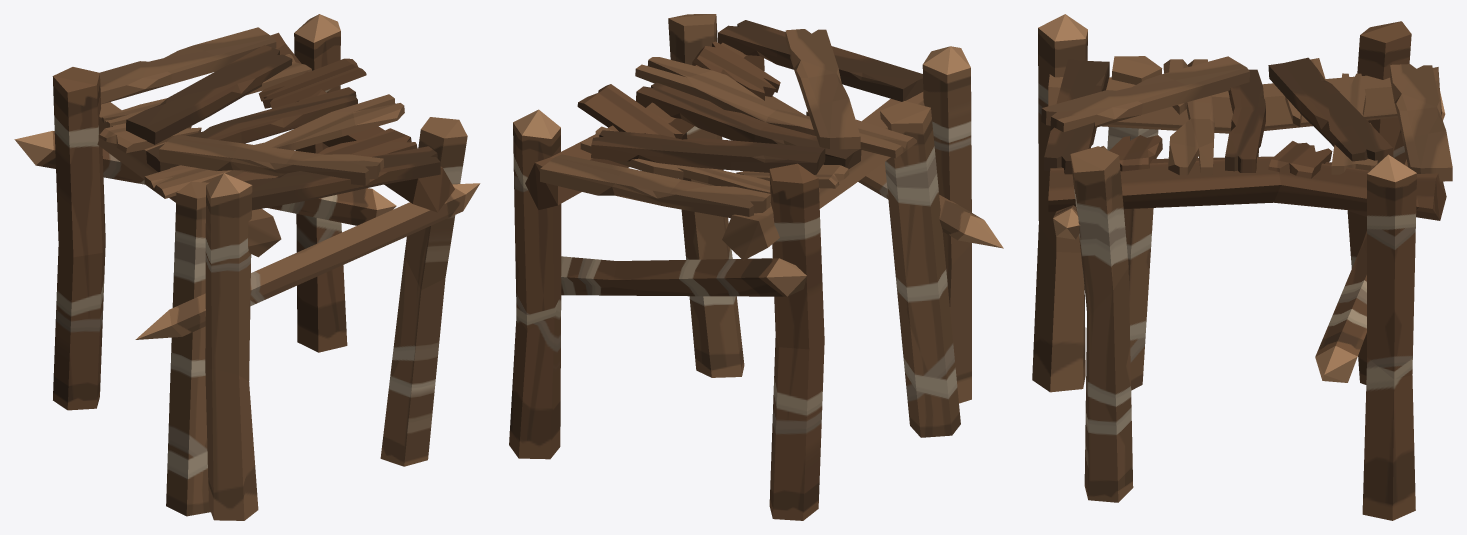
Rendered from bog_walkway.gltf.
The picture shows the model from 3 angles, left to right: view 1: azimuth 30°, elevation 25°; view 2: azimuth 150°, elevation 25°; view 3: azimuth 270°, elevation 25°; orthographic projection. The views are drawn at different scales.
Parts seen in each view (by area): view 1: bog_walkway; view 2: bog_walkway; view 3: bog_walkway.
Part boxes in pixels (x1,y1,x2,y2): bog_walkway: [14, 14, 480, 520]; bog_walkway: [509, 14, 1003, 520]; bog_walkway: [1032, 14, 1452, 520].
Size of the model in its own units: 2.91 by 2.67 by 2.72.
Materials: 1 (1 with a texture image).
